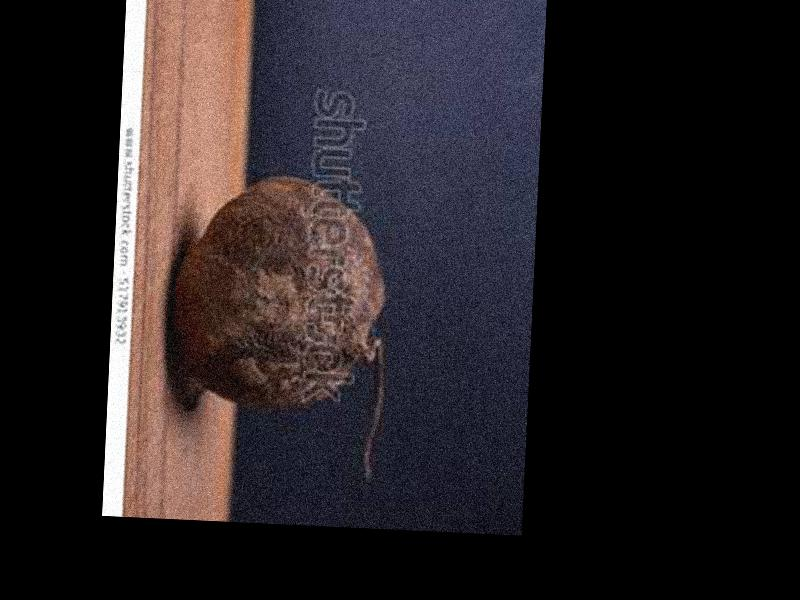Beet: (166, 172, 394, 485)
